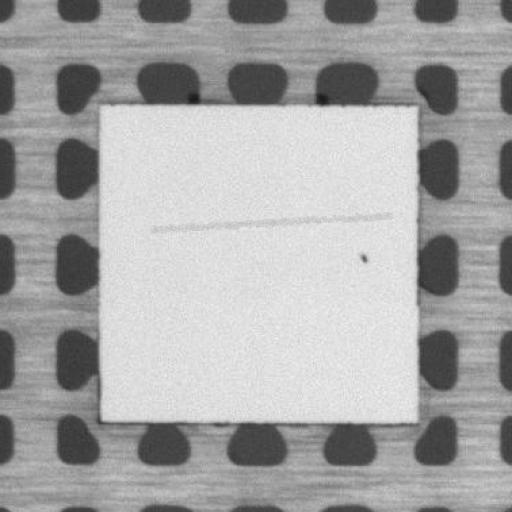DIE_INK: (355, 248, 368, 264)
